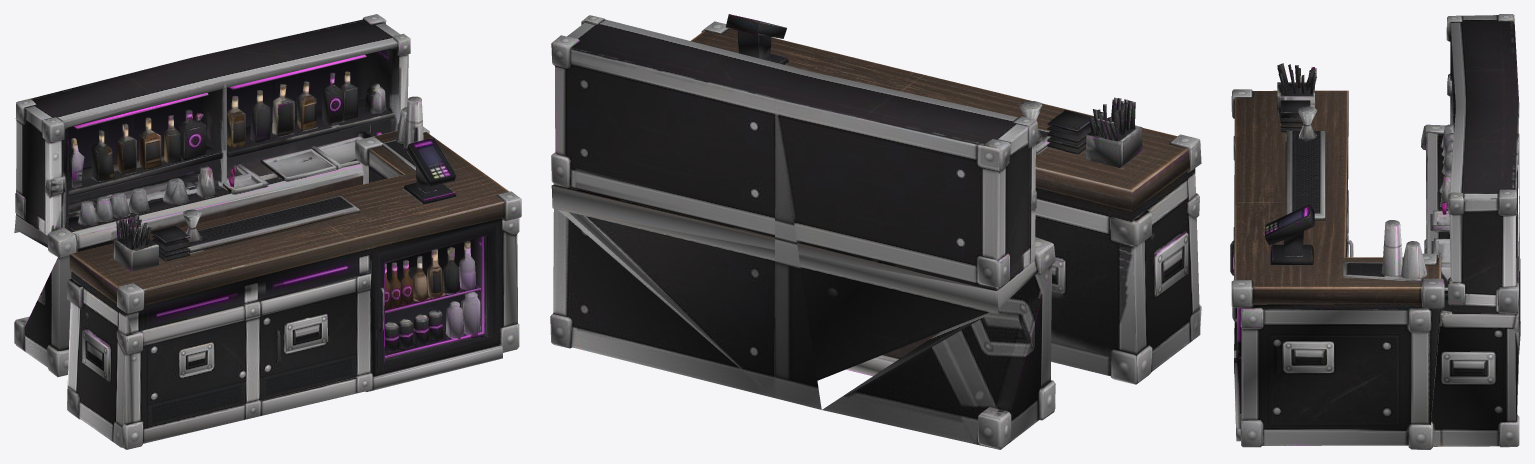
Rendered from bar_opt.glb.
3 views of the same model, side by side, from view 1: azimuth 30°, elevation 25°; view 2: azimuth 150°, elevation 25°; view 3: azimuth 270°, elevation 25° (orthographic). The views are drawn at different scales.
Size of the model in its own units: 0.9512 by 0.5557 by 0.5771.
1 material, 1 textured.
